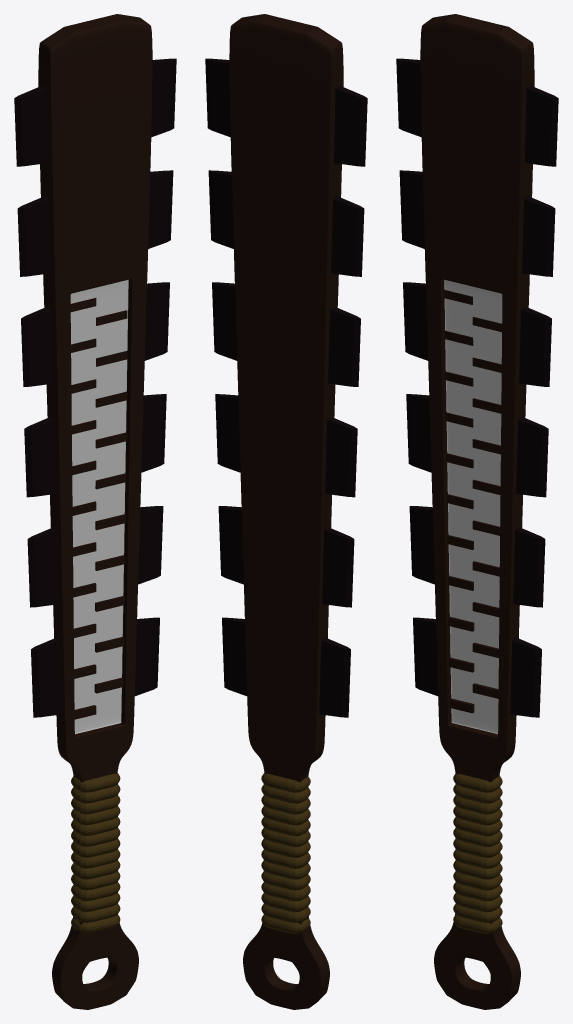
Rendered from Macuahuilt.obj.
3 renders of one model, left to right at view 1: azimuth 30°, elevation 25°; view 2: azimuth 150°, elevation 25°; view 3: azimuth 330°, elevation 25°, orthographic.
Parts seen in each view (by area): view 1: object 1, _2, _1, _4, _3; view 2: object 1, _2, _4; view 3: object 1, _2, _1, _4, _3.
Boxes of the visible parts, left/top/right/bottom form: object 1: left=38, top=14, right=152, bottom=1009; _2: left=14, top=58, right=176, bottom=717; _1: left=70, top=279, right=128, bottom=733; _4: left=71, top=773, right=120, bottom=933; _3: left=70, top=298, right=127, bottom=719; object 1: left=229, top=14, right=343, bottom=1009; _2: left=205, top=58, right=367, bottom=717; _4: left=261, top=773, right=310, bottom=933; object 1: left=420, top=14, right=534, bottom=1009; _2: left=396, top=58, right=558, bottom=717; _1: left=444, top=279, right=502, bottom=733; _4: left=453, top=774, right=502, bottom=933; _3: left=444, top=290, right=501, bottom=713.
Bounding box in the file's own units: 0.8329 × 4.81 × 0.1376.
